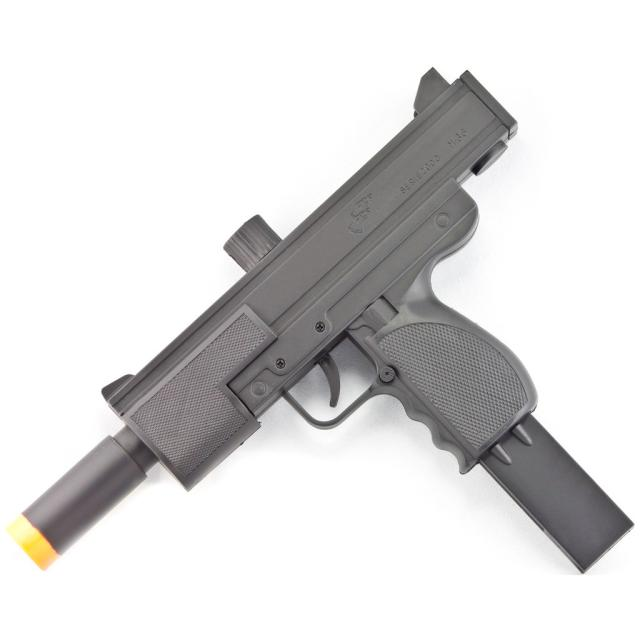SMG: (4, 70, 635, 576)
